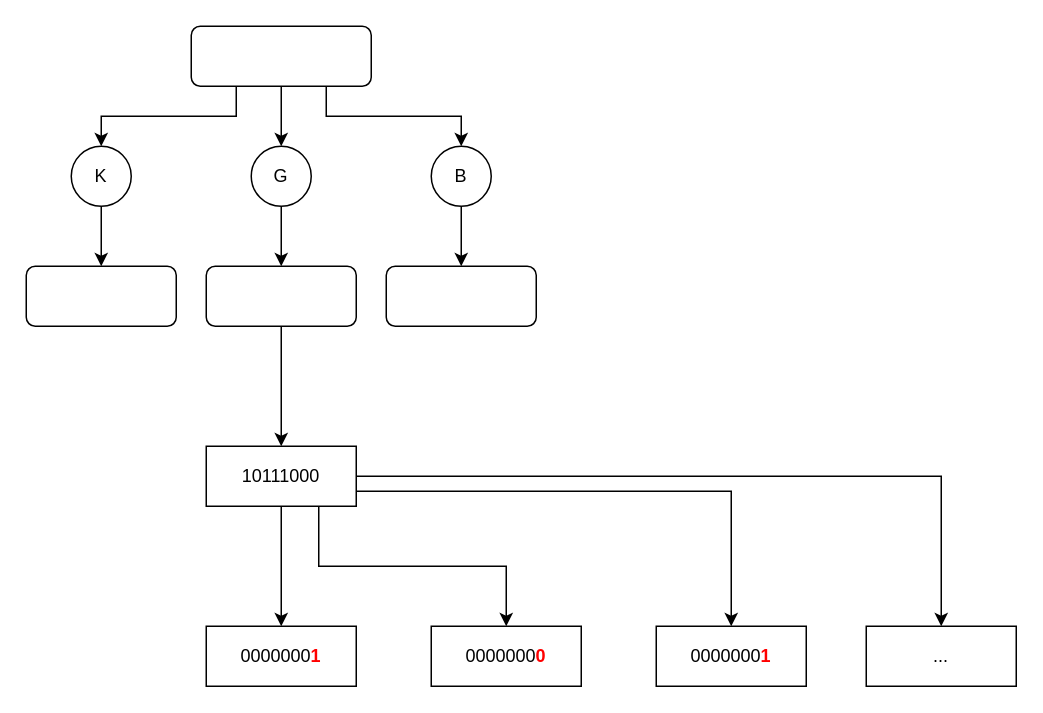
Some shapes in this 1043 by 713 pixel diagram are drawn without their labels. Each missing label, with the centre of its shape:
DEC: 66 BIN: 01000010: point 460,295
DEC: 71 BIN: 01000111: point 280,295
DEC: 75 BIN: 01001011: point 100,295
KGB: point 280,55
